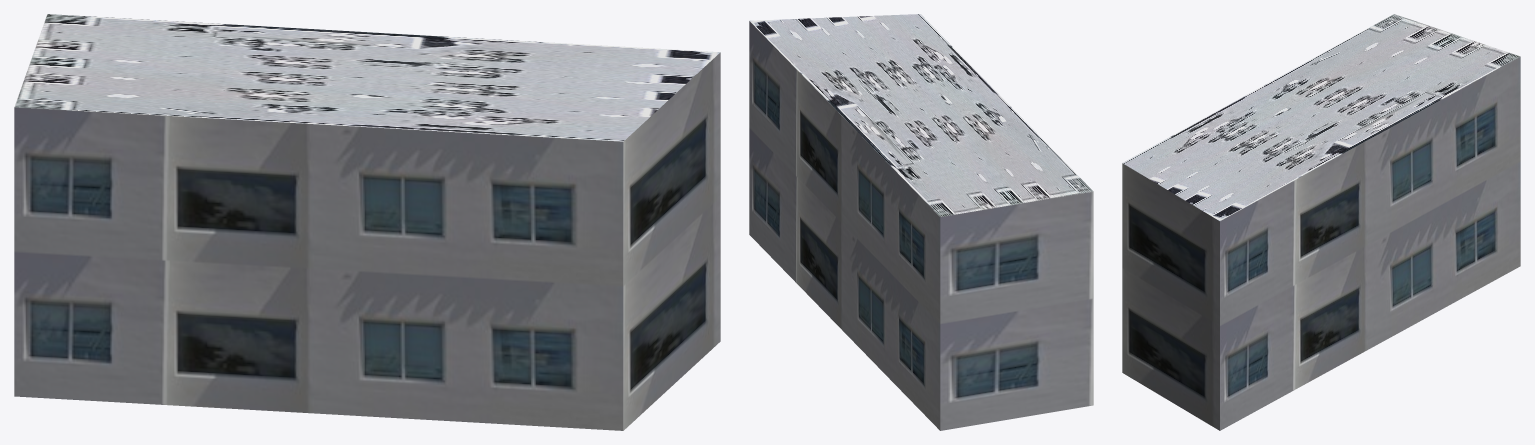
Rendered from ResTex__2939.fbx.
3 renders of one model, left to right at view 1: azimuth 30°, elevation 25°; view 2: azimuth 150°, elevation 25°; view 3: azimuth 270°, elevation 25°, orthographic. The views are drawn at different scales.
Visible parts, largest first — view 1: CityEngineMaterial_10_m, CityEngineMaterial_8_m; view 2: CityEngineMaterial_10_m, CityEngineMaterial_8_m; view 3: CityEngineMaterial_10_m, CityEngineMaterial_8_m.
Boxes of the visible parts, x1=… form: CityEngineMaterial_10_m: x1=14, y1=52, x2=720, y2=430; CityEngineMaterial_8_m: x1=14, y1=14, x2=719, y2=141; CityEngineMaterial_10_m: x1=749, y1=21, x2=1093, y2=430; CityEngineMaterial_8_m: x1=749, y1=14, x2=1093, y2=216; CityEngineMaterial_10_m: x1=1122, y1=57, x2=1520, y2=430; CityEngineMaterial_8_m: x1=1122, y1=14, x2=1520, y2=220.
Bounding box in the file's own units: 12.72 × 6 × 10.33.
Materials: 2 (2 with a texture image).
